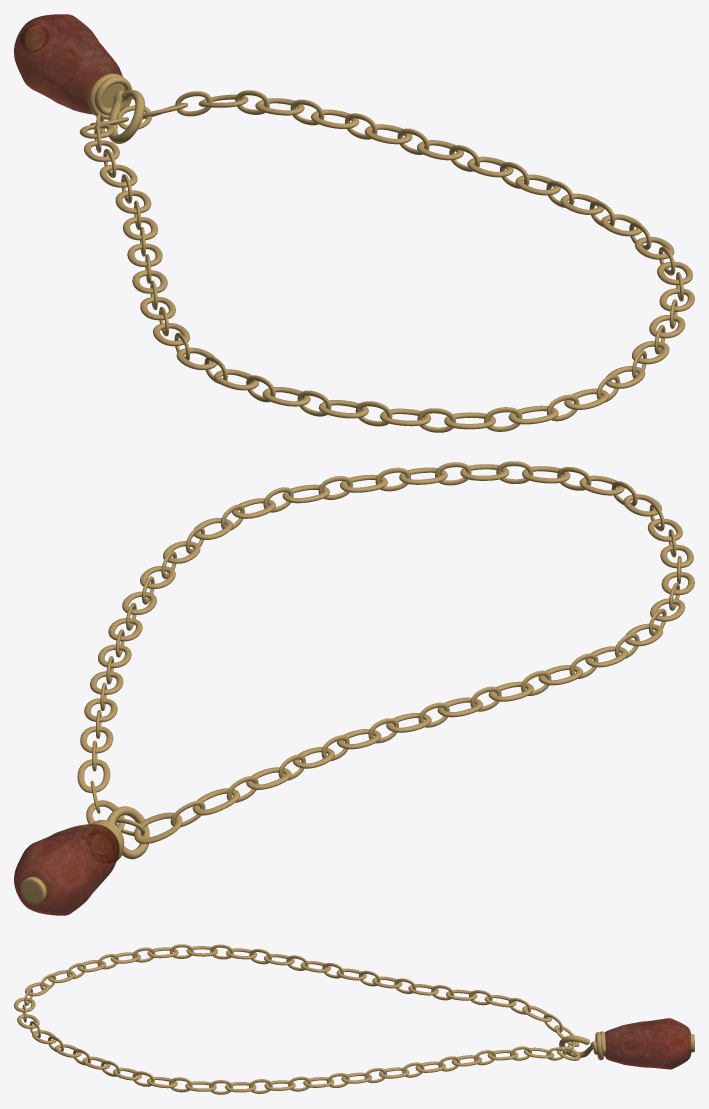
File: neck1.glb
3 renders of one model, top to bottom at view 1: azimuth 30°, elevation 25°; view 2: azimuth 150°, elevation 25°; view 3: azimuth 270°, elevation 25°, orthographic. The views are drawn at different scales.
Parts seen in each view (by area): view 1: Object_2, Object_3; view 2: Object_2, Object_3; view 3: Object_2, Object_3.
Part boxes in pixels (x1,y1,x2,y2): Object_2: (22, 25, 694, 432); Object_3: (14, 14, 122, 114); Object_2: (20, 461, 694, 904); Object_3: (14, 824, 119, 915); Object_2: (14, 944, 694, 1094); Object_3: (605, 1018, 691, 1069).
Size of the model in its own units: 6.44 by 1.14 by 12.84.
Materials: 2 (1 with a texture image).
